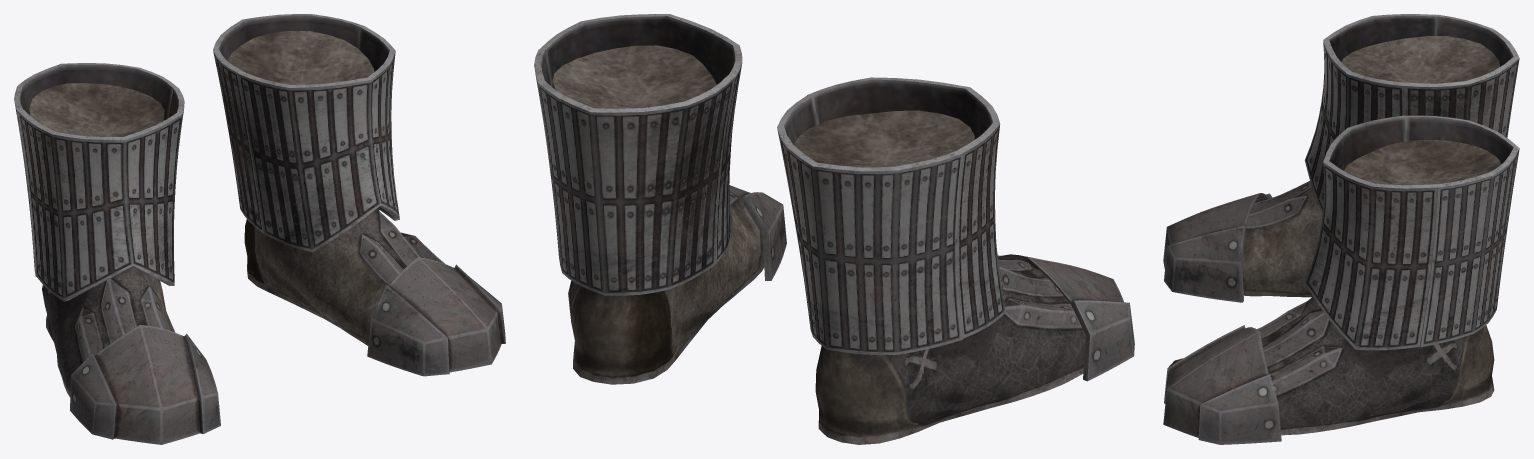
Rendered from sk_dwarf_iron_boots_heavy_a3.fbx.
3 views of the same model, side by side, from view 1: azimuth 30°, elevation 25°; view 2: azimuth 150°, elevation 25°; view 3: azimuth 270°, elevation 25° (orthographic). The views are drawn at different scales.
Visible parts, largest first — view 1: sk_dwarf_iron_boots_heavy_a3; view 2: sk_dwarf_iron_boots_heavy_a3; view 3: sk_dwarf_iron_boots_heavy_a3.
Boxes of the visible parts, x1,y1,x2,y2 form: sk_dwarf_iron_boots_heavy_a3: (14,14,505,444); sk_dwarf_iron_boots_heavy_a3: (534,14,1134,444); sk_dwarf_iron_boots_heavy_a3: (1163,14,1519,444).
Size of the model in its own units: 0.5675 by 0.4163 by 0.3133.
1 material, 1 textured.
